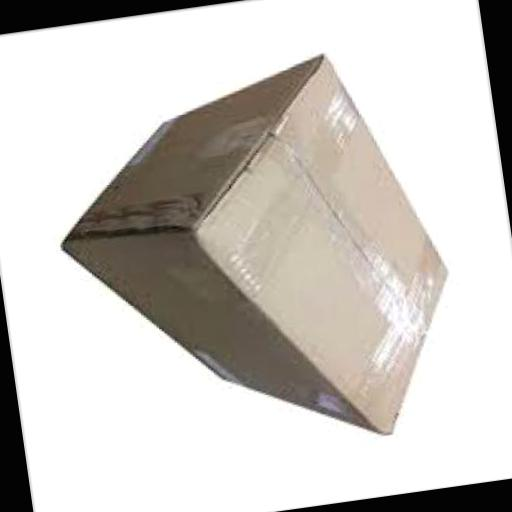cardboard: (42, 42, 470, 475)
